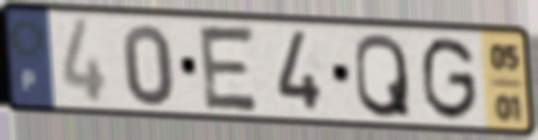0: (119, 19, 178, 110)
4: (59, 14, 115, 109), (274, 27, 326, 116)
E: (197, 22, 263, 115)
G: (420, 34, 481, 123)
Q: (352, 30, 414, 121)
